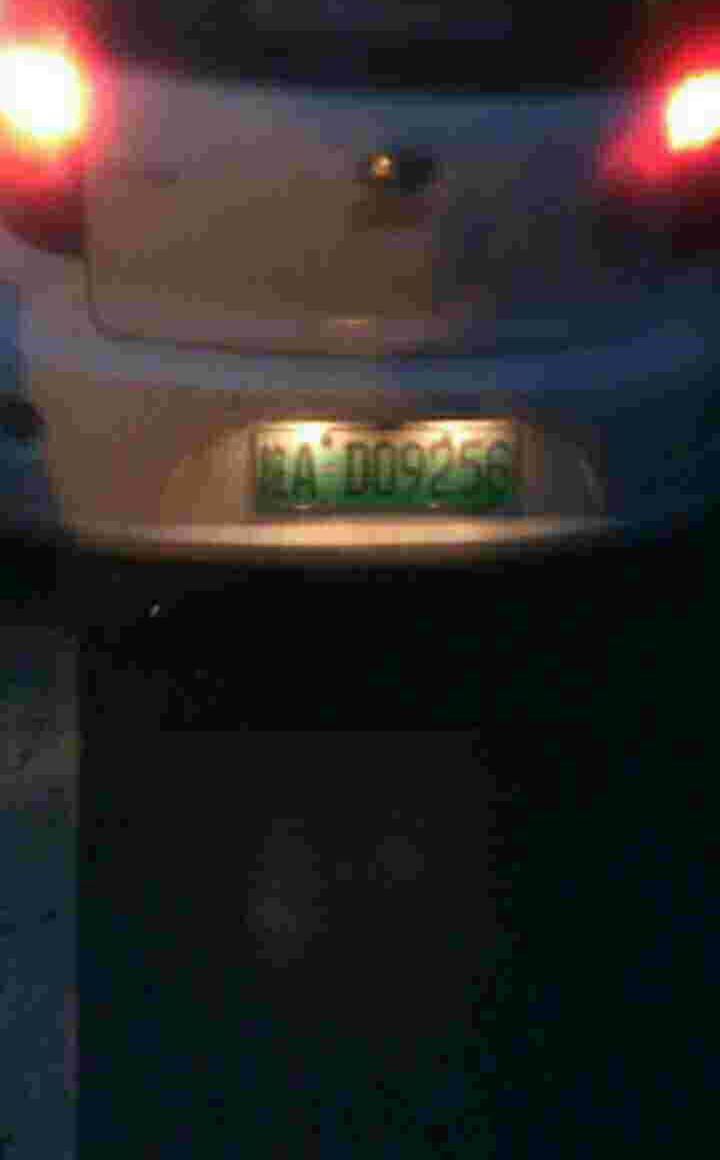car: (244, 427, 536, 515)
